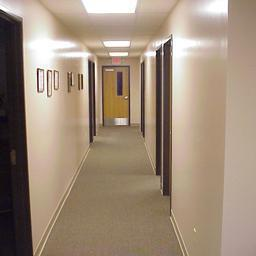Puerta: (163, 43, 172, 208), (155, 47, 163, 180)
